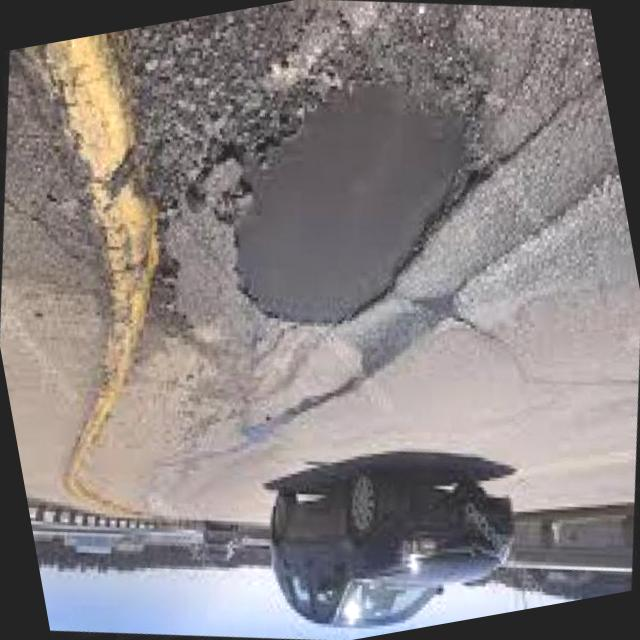Pathole: (233, 91, 482, 326)
